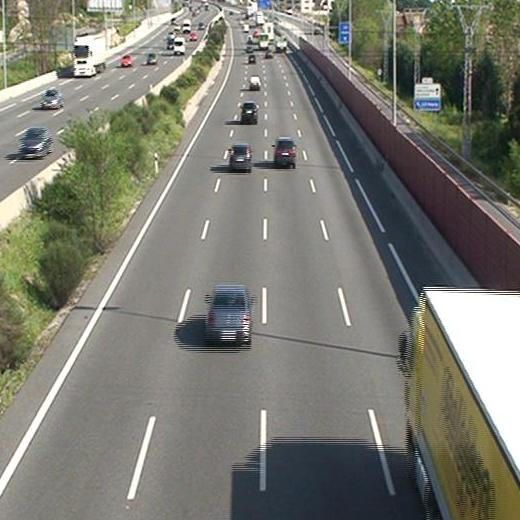car: (207, 287, 249, 340), (274, 137, 296, 163), (229, 144, 250, 169), (242, 103, 258, 121), (248, 76, 261, 89), (247, 55, 255, 63)
